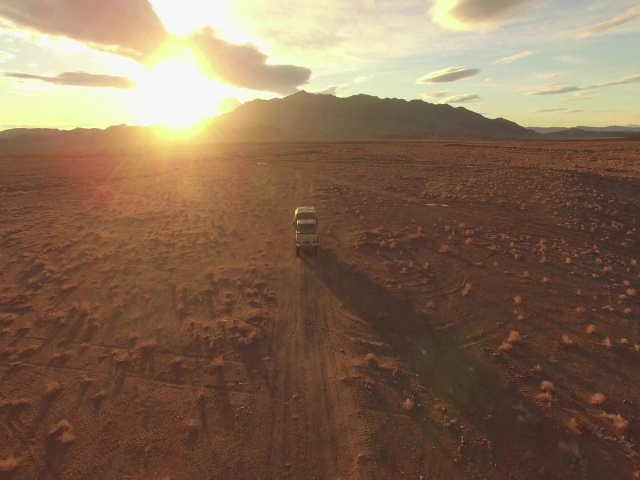vehicle: (291, 204, 320, 254)
